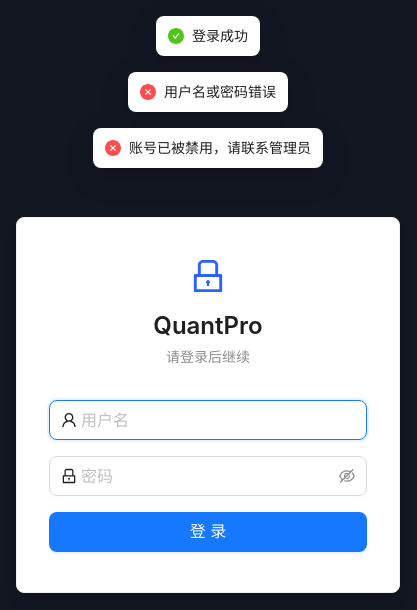
Login 页 › 认证服务故障（503）：提示服务不可用
The width and height of the screenshot is (417, 610).
Expected: the button with test id "login-submit" is shown, [49,512,367,552]
Type "alice" into the field with test id "login-username" at (218, 420), box [81,408,355,432]
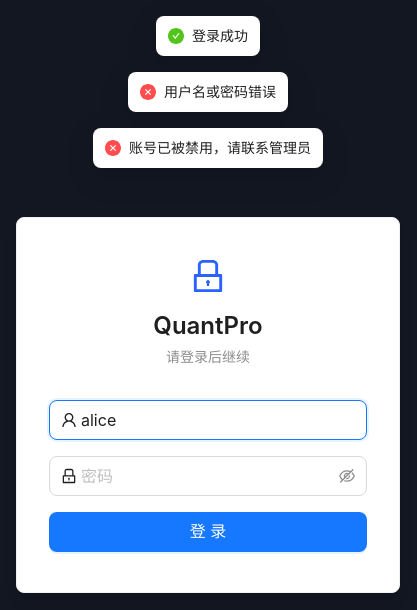
Type "secret-pwd" into the password field with test id "login-password" at (208, 476), box [81,464,335,488]
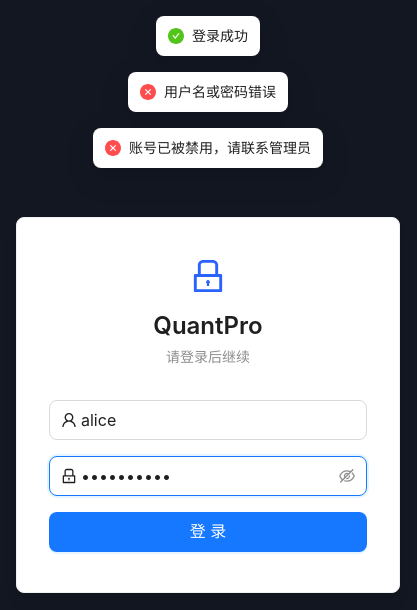
Click the button with test id "login-submit" at (208, 532), box [49,512,367,552]
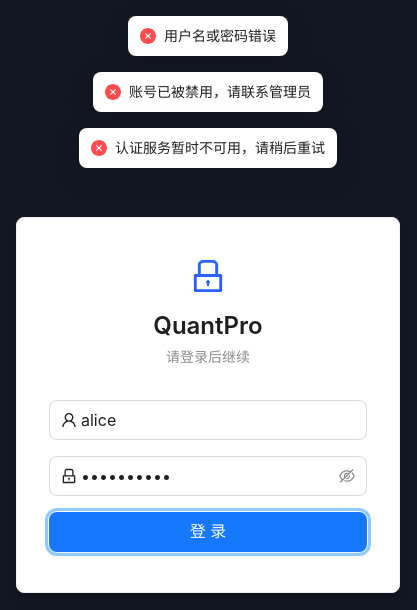
Expected: the text "认证服务暂时不可用，请稍后重试" is shown, [115,137,325,159]
